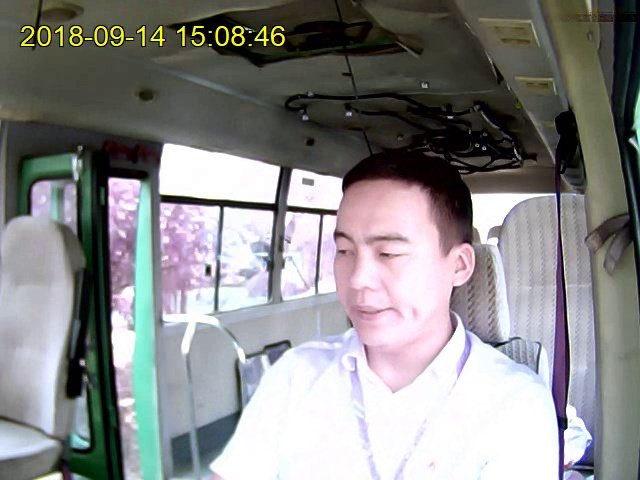closed_mouth: (349, 304, 392, 323)
